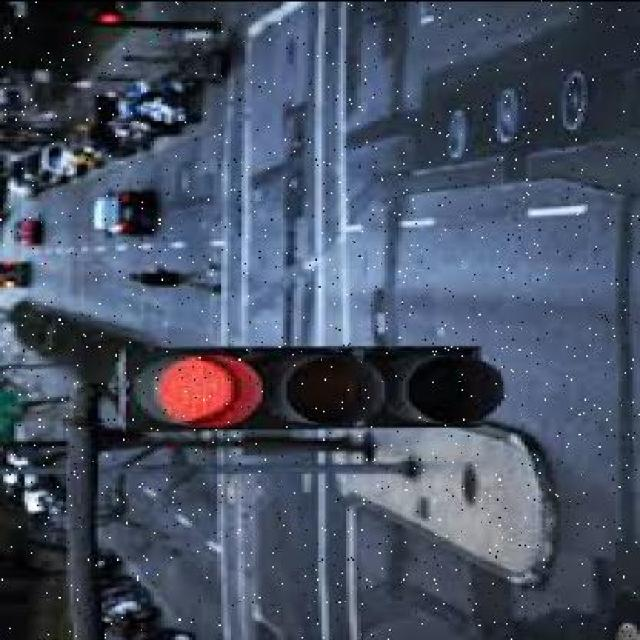red-light: (64, 326, 542, 443)
